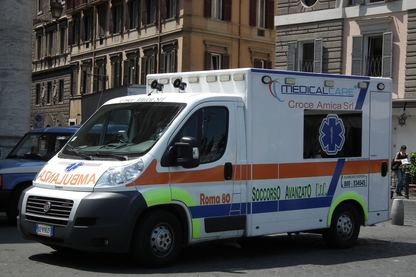ambulance: (15, 66, 393, 266)
